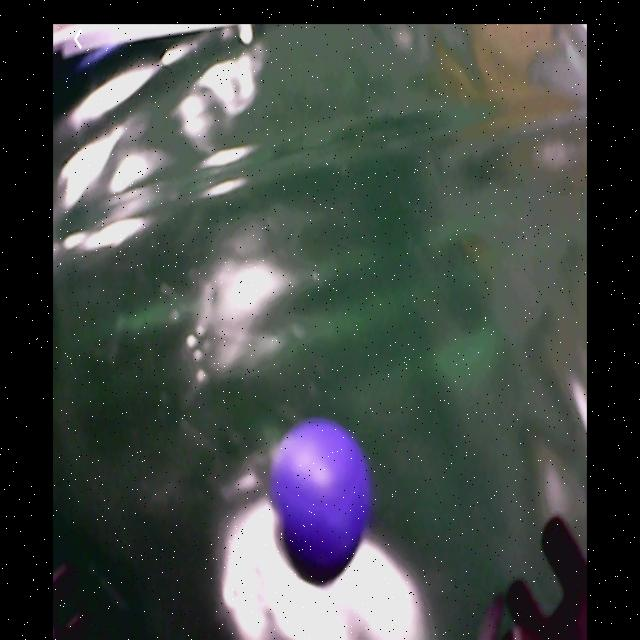ball: (272, 422, 368, 571)
